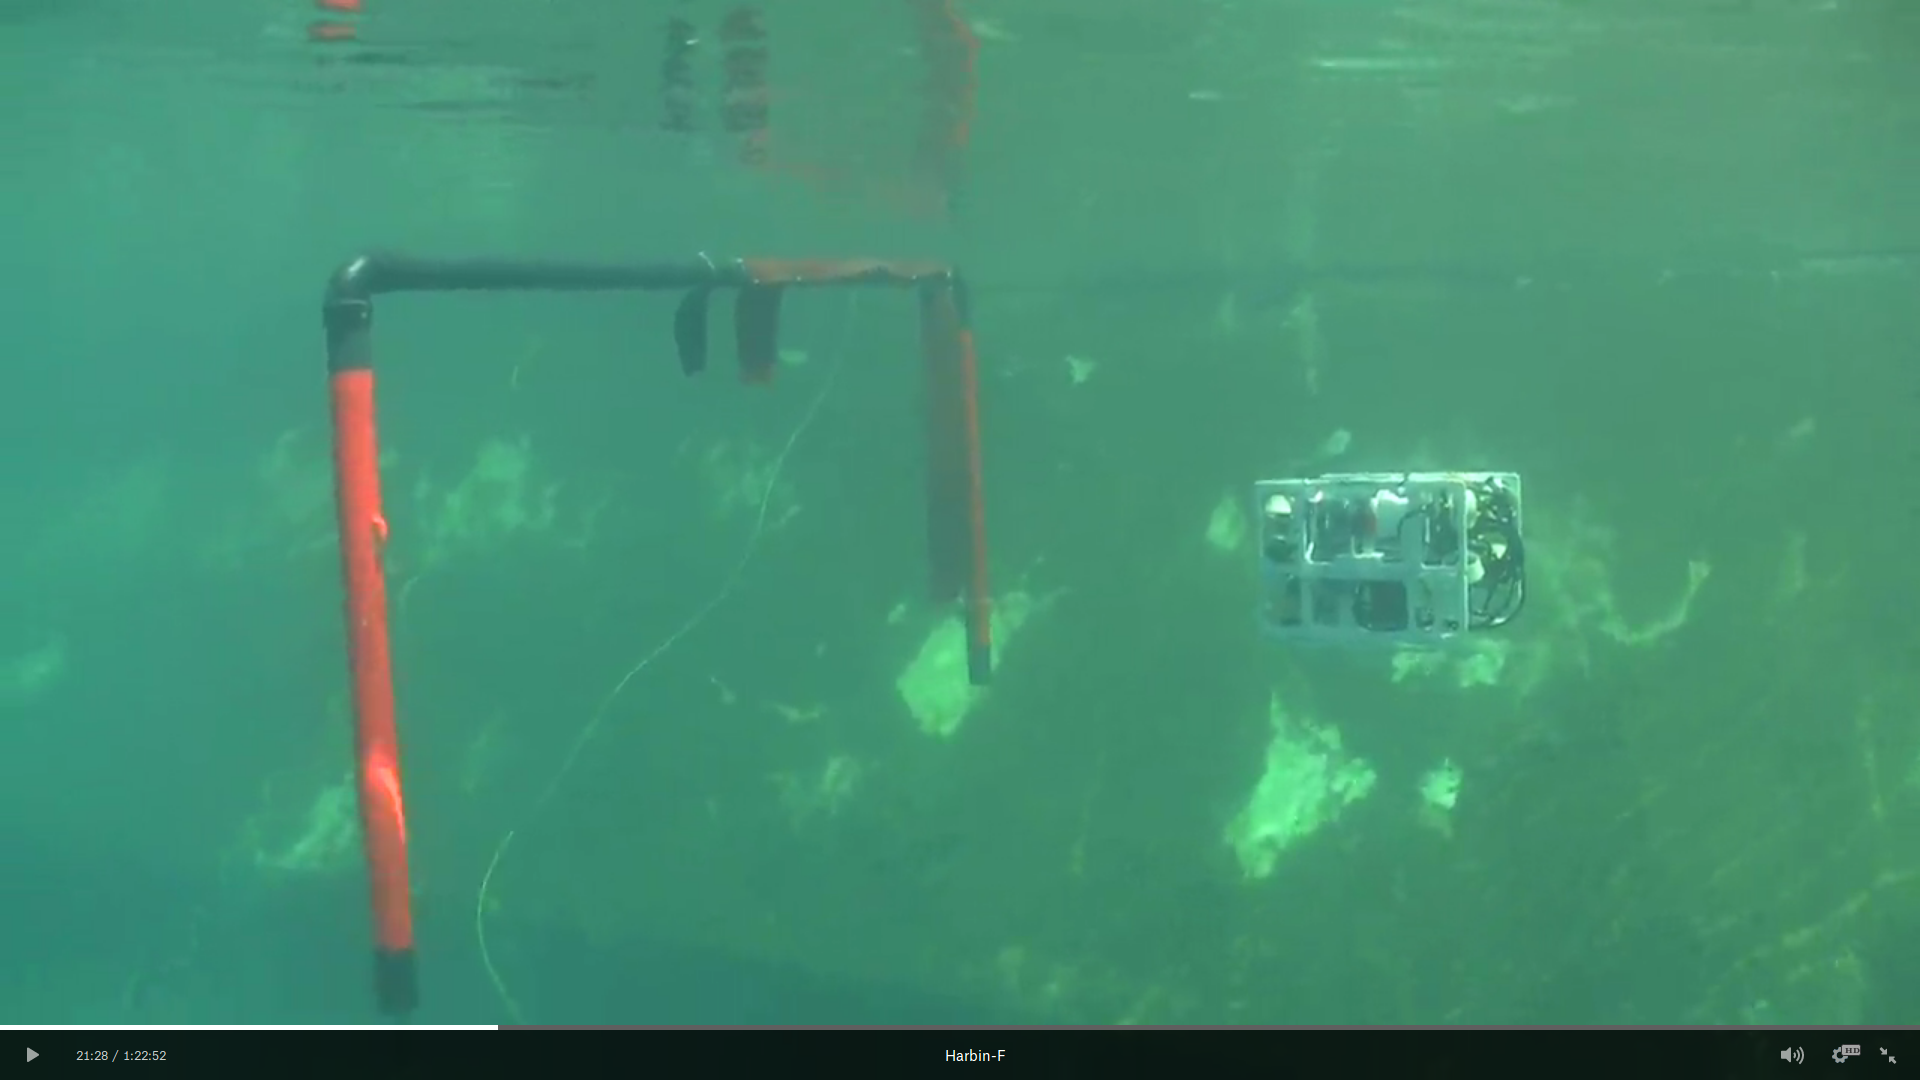gate: (314, 233, 1003, 1013)
